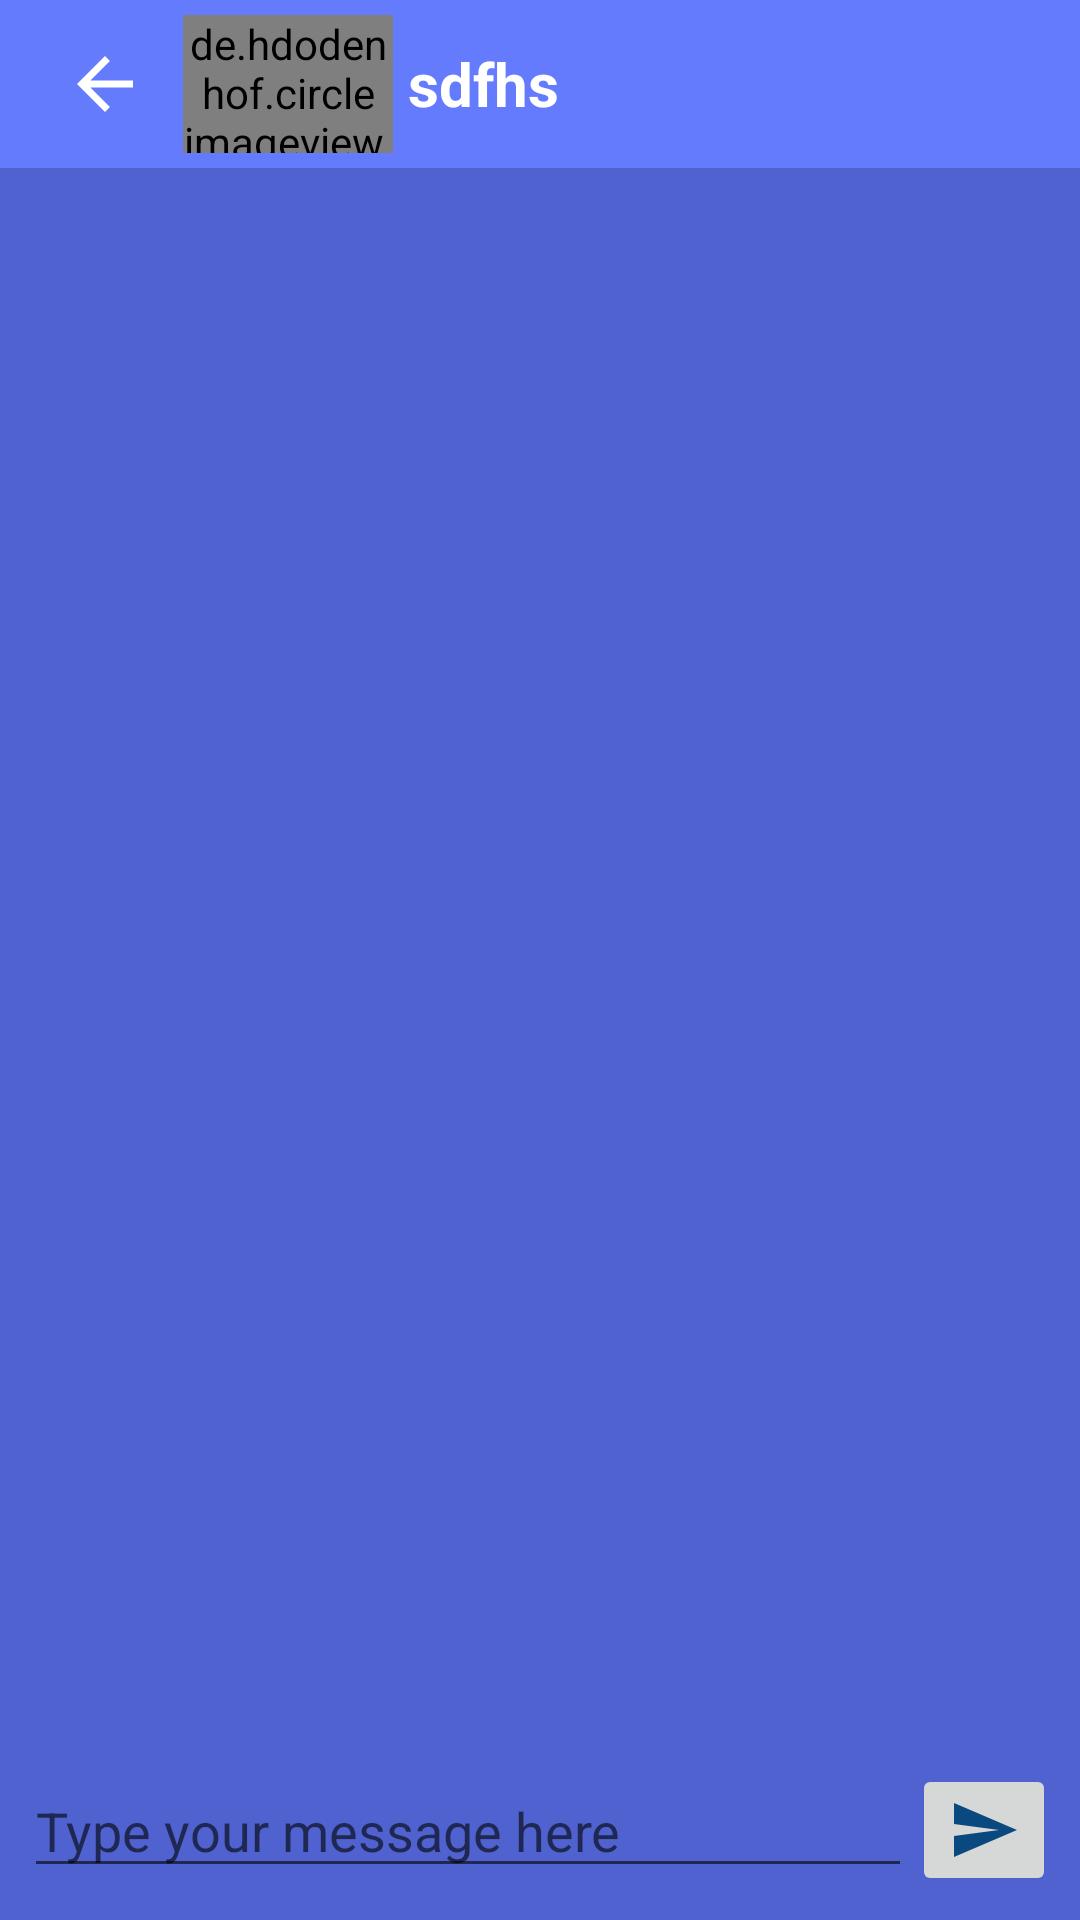

Icon click points for this 1080 × 1920 phone screenshot, format point (x, y):
arrow back: point (91, 84)
send: point (984, 1830)
